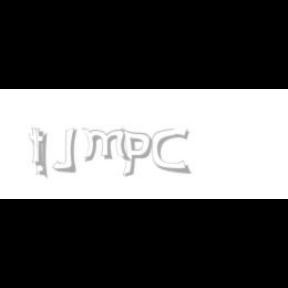C: (152, 128, 190, 174)
I: (36, 128, 48, 180)
J: (51, 128, 76, 172)
P: (120, 128, 152, 178)
m: (80, 128, 132, 162)
t: (29, 128, 51, 168)
